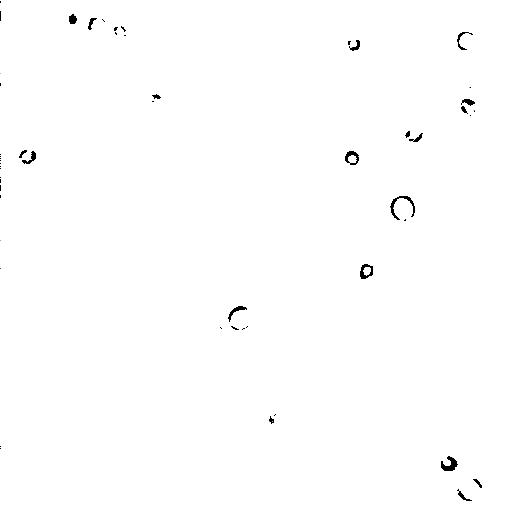micro-algae: (265, 401, 298, 437), (57, 1, 89, 33), (453, 473, 485, 502), (227, 303, 255, 333), (391, 193, 417, 223), (455, 95, 479, 118), (402, 120, 424, 144), (437, 453, 459, 474), (19, 144, 39, 167), (456, 30, 477, 51), (356, 259, 377, 280), (463, 81, 485, 100), (343, 149, 361, 169), (87, 15, 106, 33), (347, 35, 363, 53), (113, 24, 127, 40)
